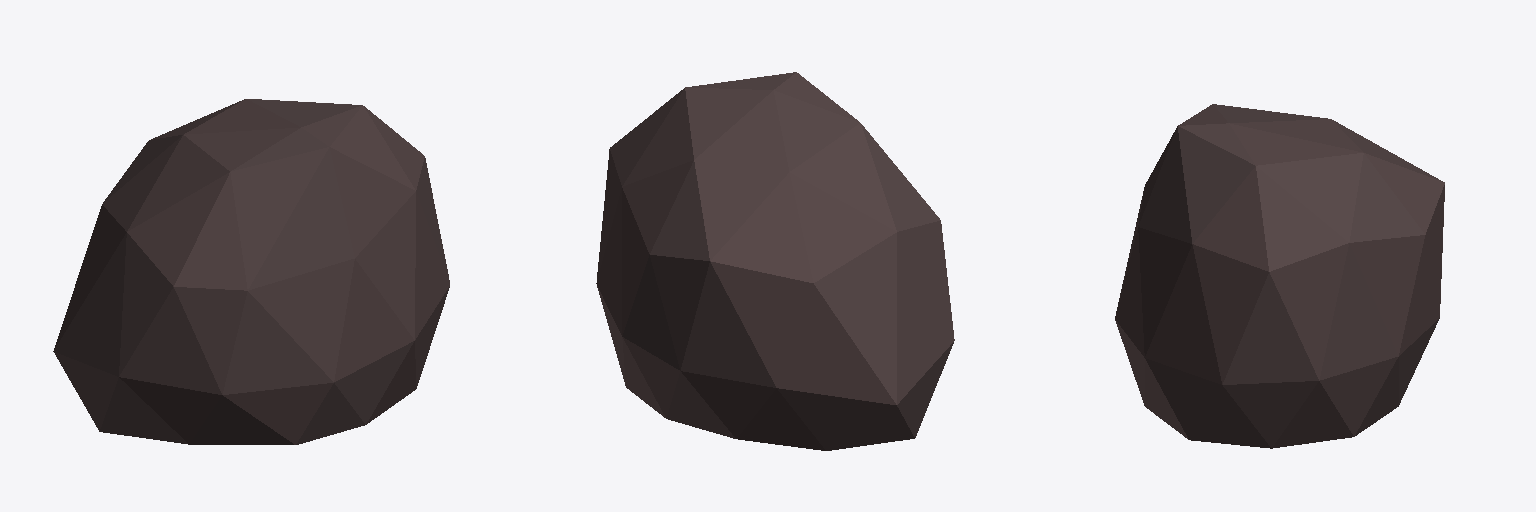
The model's file is rock_1.obj.
3 renders of one model, left to right at view 1: azimuth 30°, elevation 25°; view 2: azimuth 150°, elevation 25°; view 3: azimuth 270°, elevation 25°, orthographic.
Parts seen in each view (by area): view 1: caillou1_Icosphere; view 2: caillou1_Icosphere; view 3: caillou1_Icosphere.
Boxes of the visible parts, x1,y1,x2,y2 form: caillou1_Icosphere: [53, 99, 449, 444]; caillou1_Icosphere: [596, 72, 954, 450]; caillou1_Icosphere: [1115, 104, 1444, 448].
Bounding box in the file's own units: 2.05 × 1.68 × 1.77.